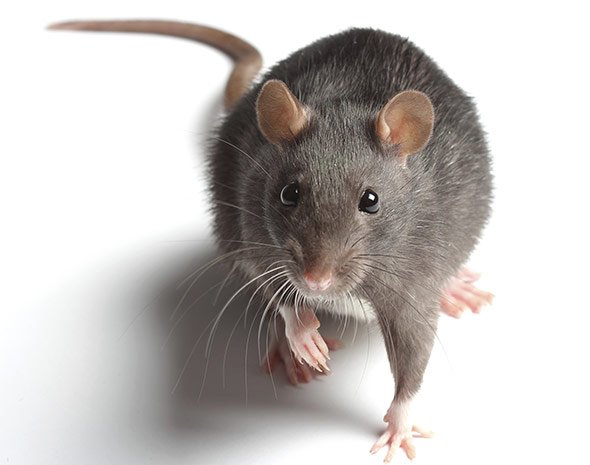rat: (190, 12, 507, 465)
